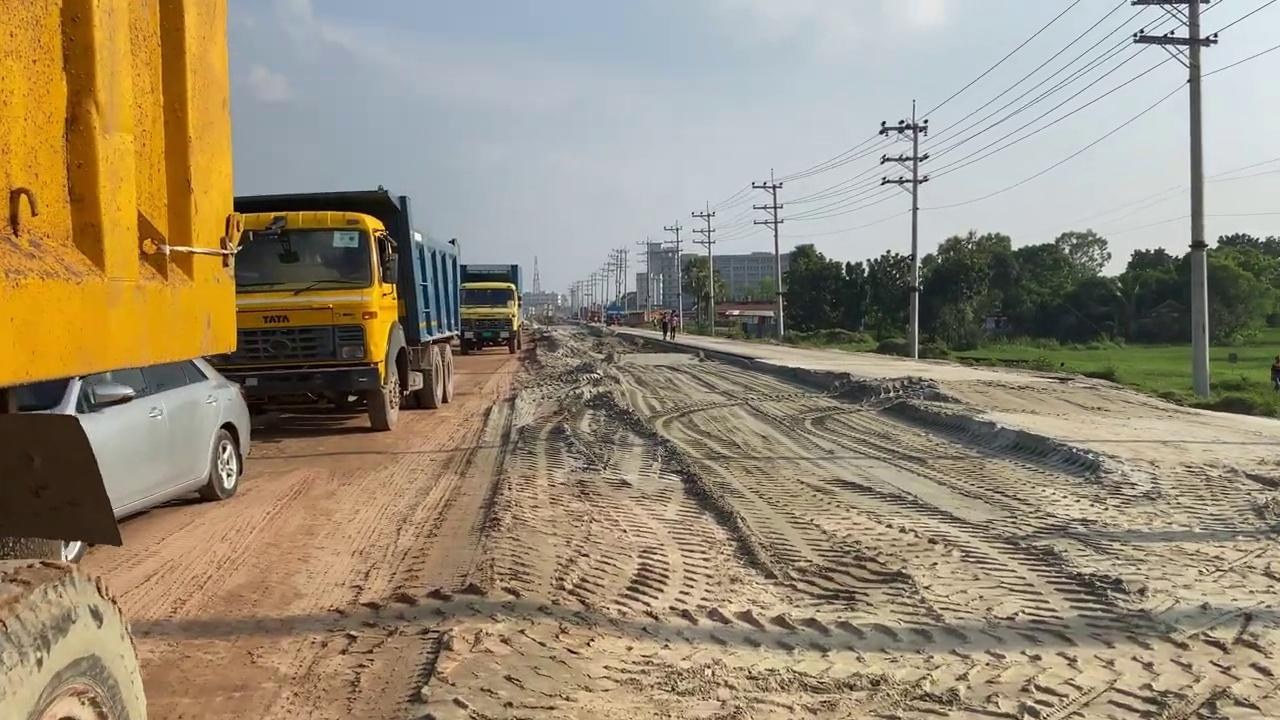Muddy road: (42, 318, 1278, 718)
Pole: (1186, 0, 1210, 399)
Tree: (1, 0, 463, 718), (204, 186, 461, 431), (457, 263, 523, 355)
Upstairs: (0, 0, 240, 387)
